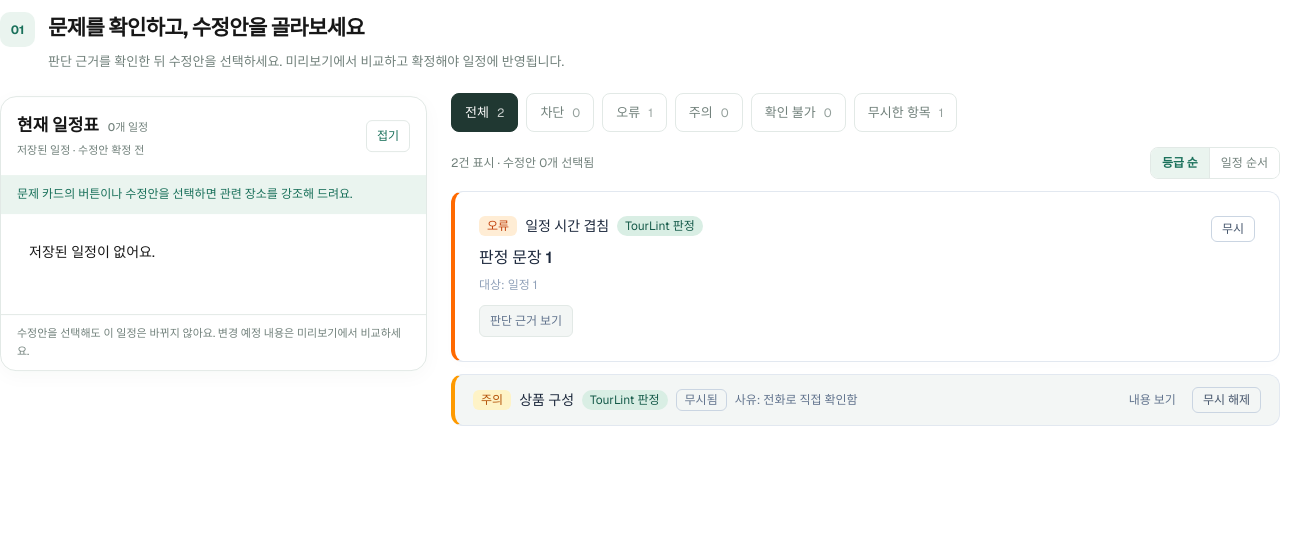
Test: 무시한 카드 (UI-S3-023) › 🔴 한 줄로 접어 등급 · 규칙 이름 · 무시됨 · 사유 · 무시 해제만 보이고, 누르면 본문을 편다
Check: the list item "주의 상품 구성 TourLint 판정 무시됨 사유: 전화로 직접 확인함 내용 보기 무시 해제" is shown, box [451, 374, 1280, 426]
Check: the text "판정 문장 9" is not shown
Click the button "내용 보기" at (1152, 400), box [1121, 387, 1184, 413]
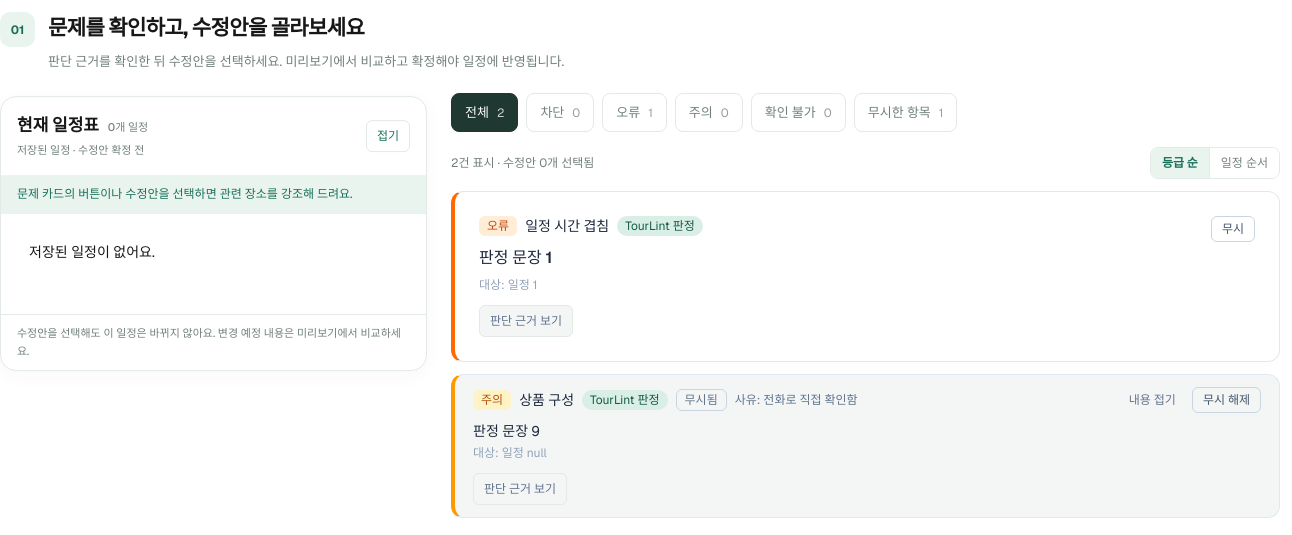
Check: the list item that starts with "상품 구성" shows "판정 문장 9", box [473, 422, 540, 440]
Check: the list item that starts with "상품 구성" shows "판단 근거 보기", box [473, 473, 567, 505]
